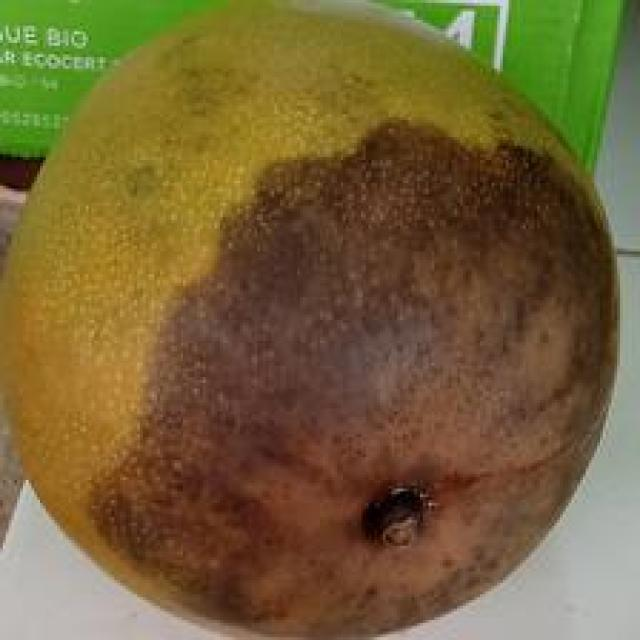Bad_Mango: (6, 11, 616, 636)
